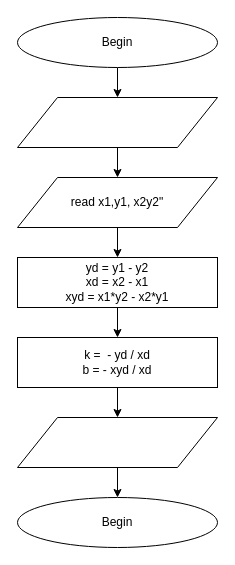
Some shapes in this 235 by 565 pixel diagram are drawn without their labels. Here are the shapes that lost their labels. From the top down, the centre of each, then its label:
the point at 117,122: output "Insert x1,y1, x2y2"
the point at 117,442: output y = {k}*x + {b}
